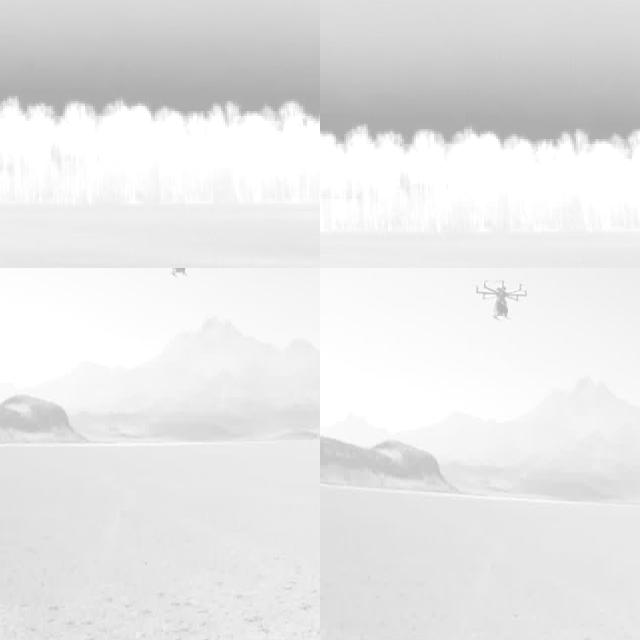drone: (475, 276, 531, 321), (150, 268, 203, 284)
